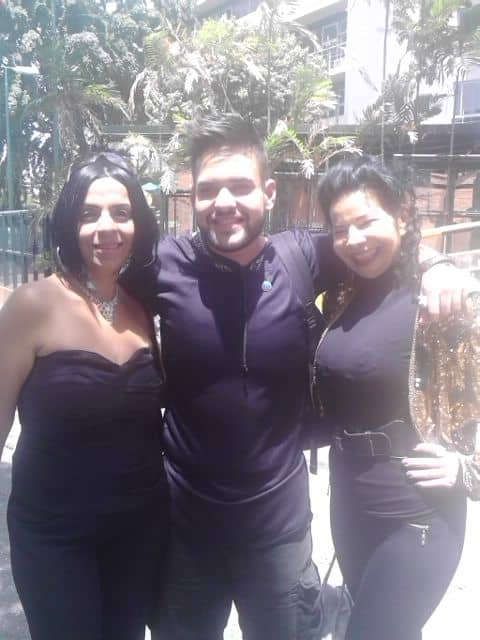person: (155, 126, 325, 421), (18, 138, 175, 451), (302, 144, 450, 473)
